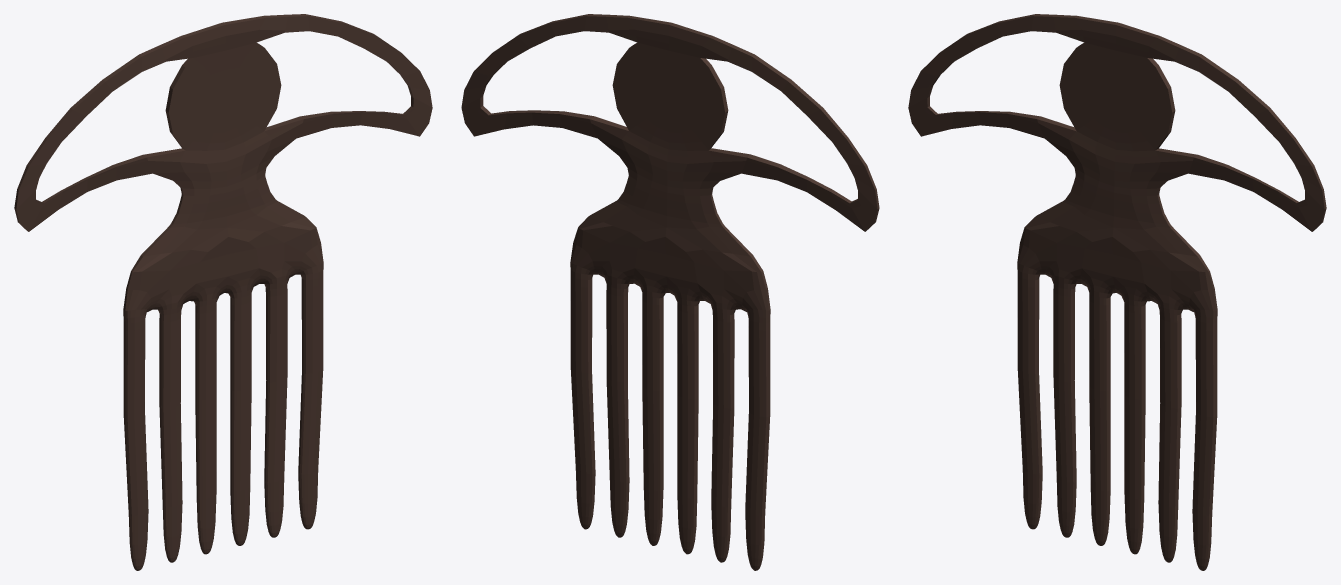
Rendered from hair-comb.glb.
3 views of the same model, side by side, from view 1: azimuth 30°, elevation 25°; view 2: azimuth 150°, elevation 25°; view 3: azimuth 330°, elevation 25° (orthographic).
Visible parts, largest first — view 1: Cylinder.001; view 2: Cylinder.001; view 3: Cylinder.001.
Boxes of the visible parts, x1,y1,x2,y2 form: Cylinder.001: (14,14,432,570); Cylinder.001: (461,14,879,570); Cylinder.001: (908,14,1326,570).
Bounding box in the file's own units: 0.7801 × 0.9424 × 0.0323.
